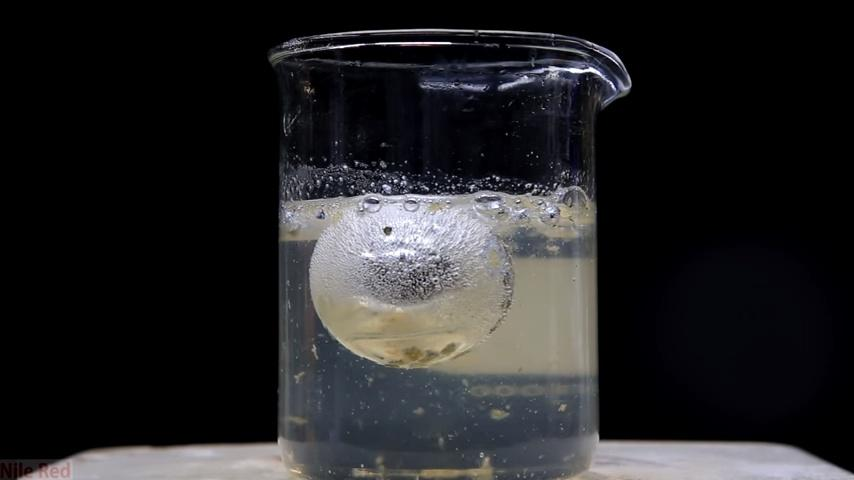Beaker: (251, 28, 610, 471)
